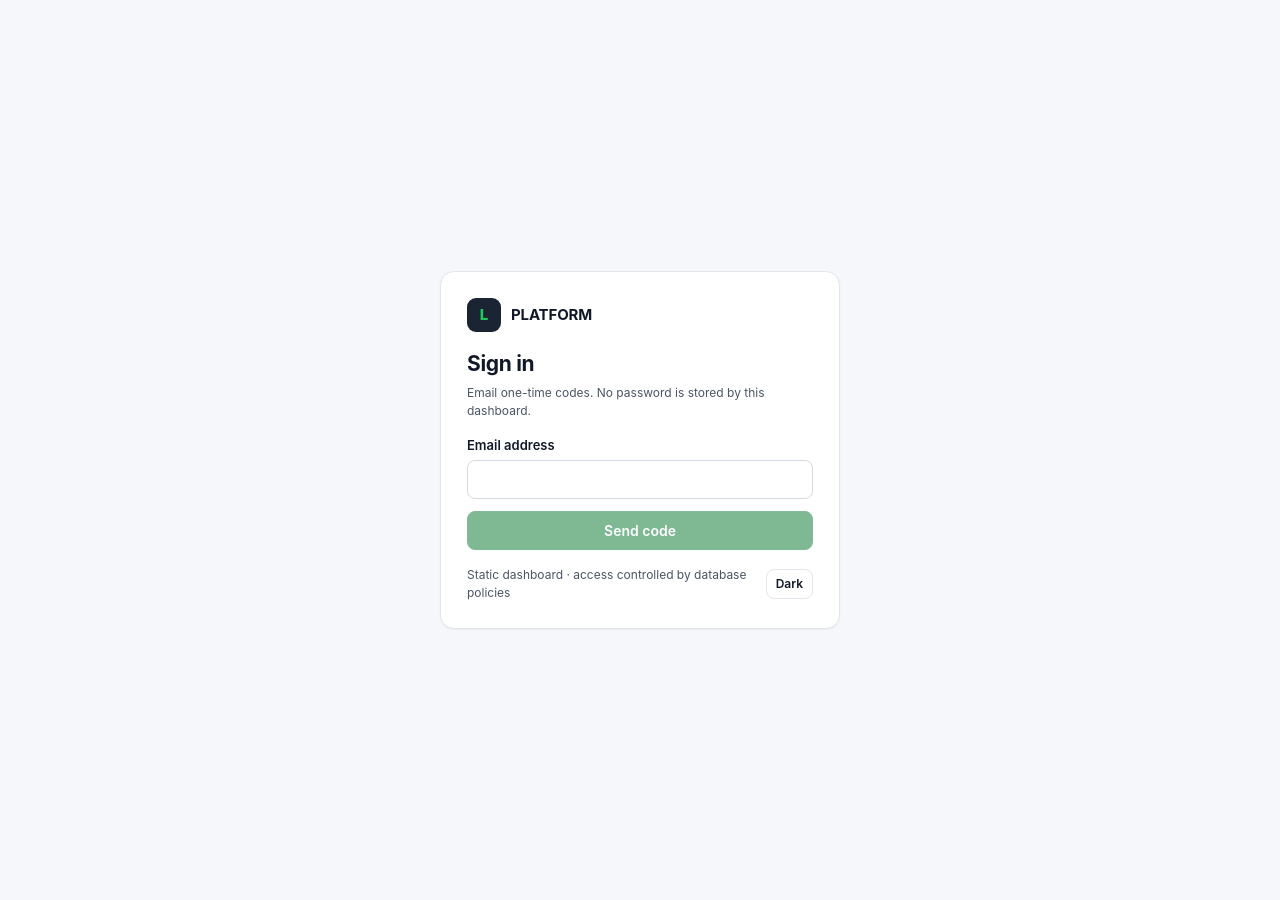
Test case: login › signs in a known email with the test code
Expected: the heading "Sign in" is shown, [467,351,534,376]
Type "student@dashboard.test" into the field labelled "Email address". click: (640, 480)
box: [467,460,813,499]
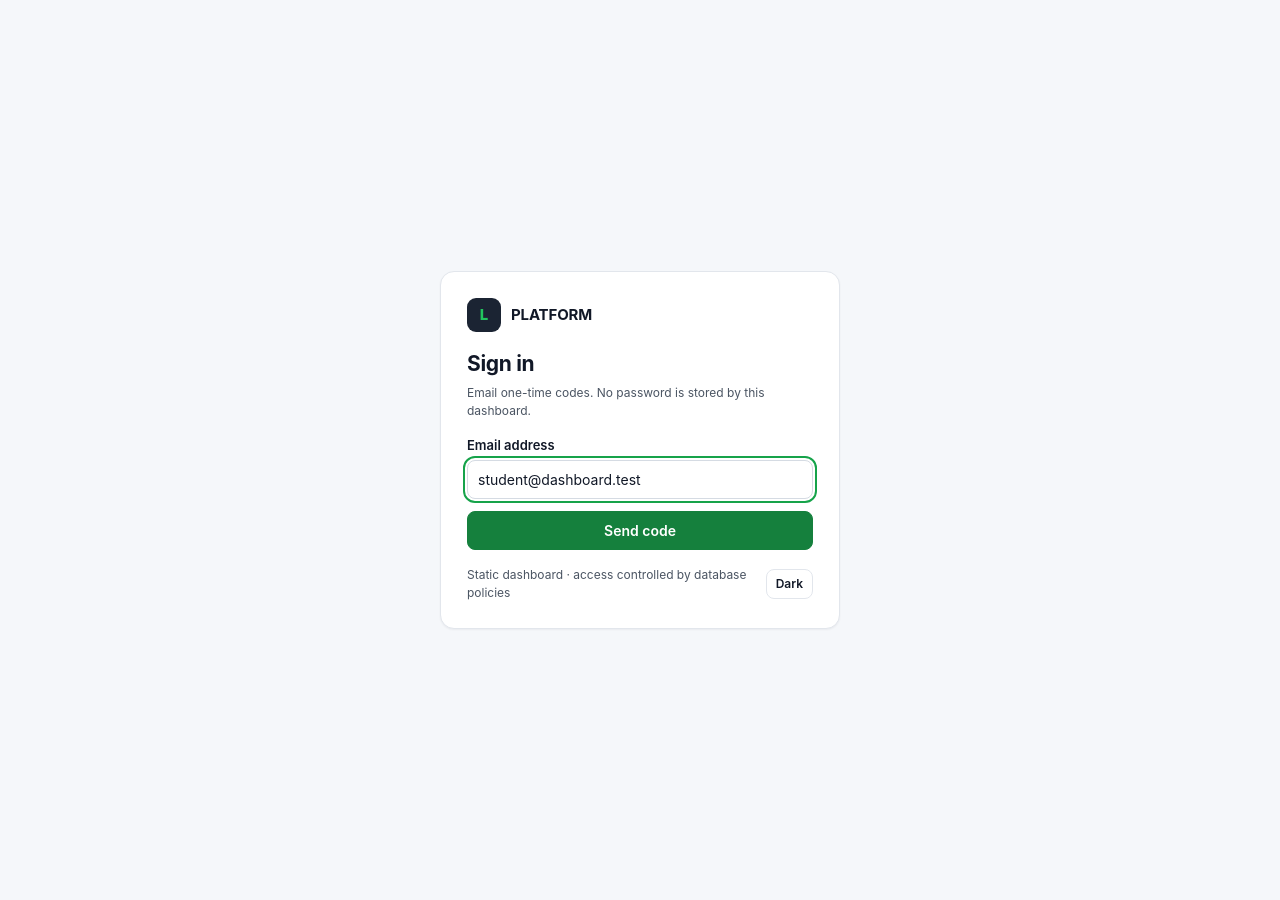
Click the button "Send code". click: (640, 530)
box: [467,511,813,550]
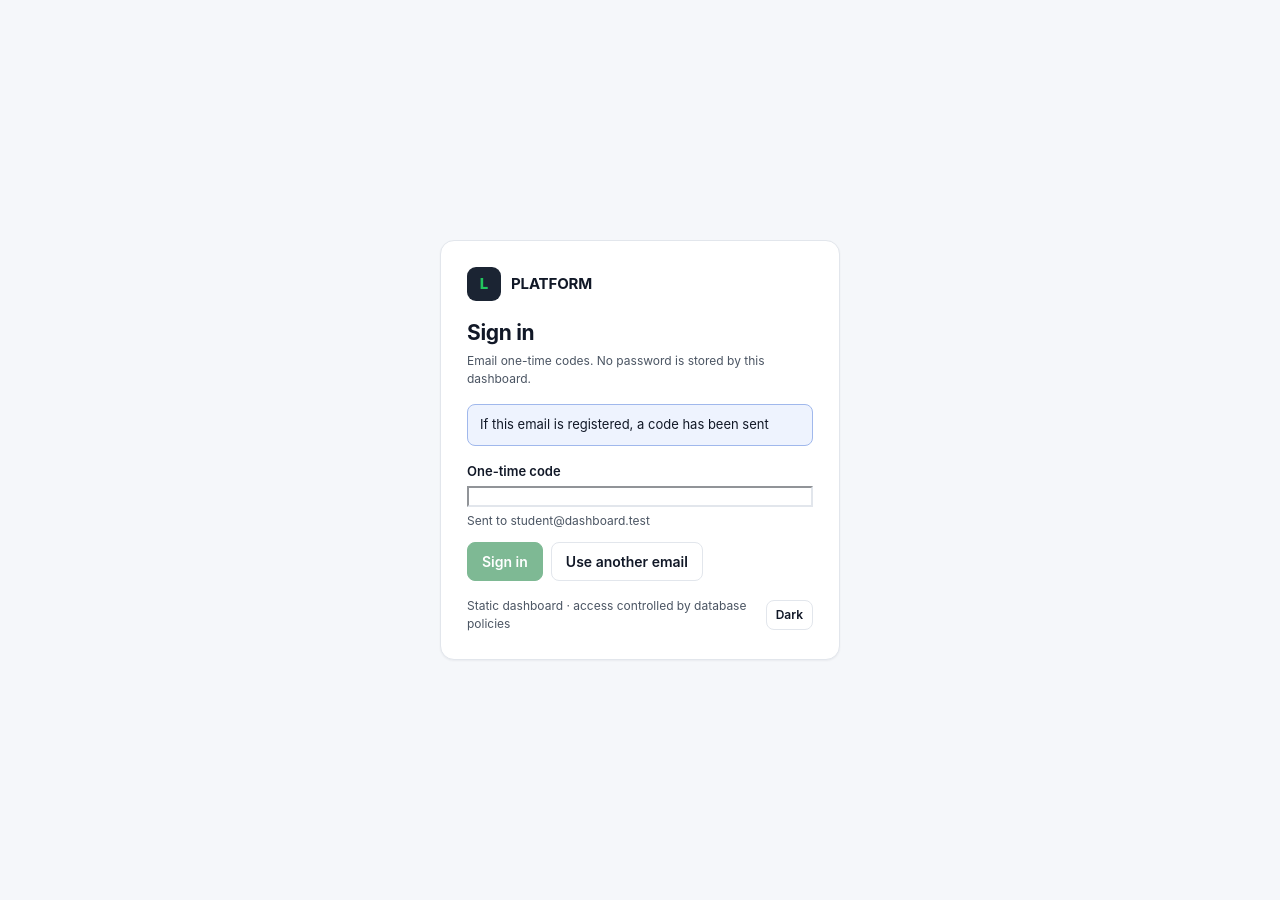
Type "123456" into the field labelled "One-time code". click: (640, 497)
box: [467,486,813,507]
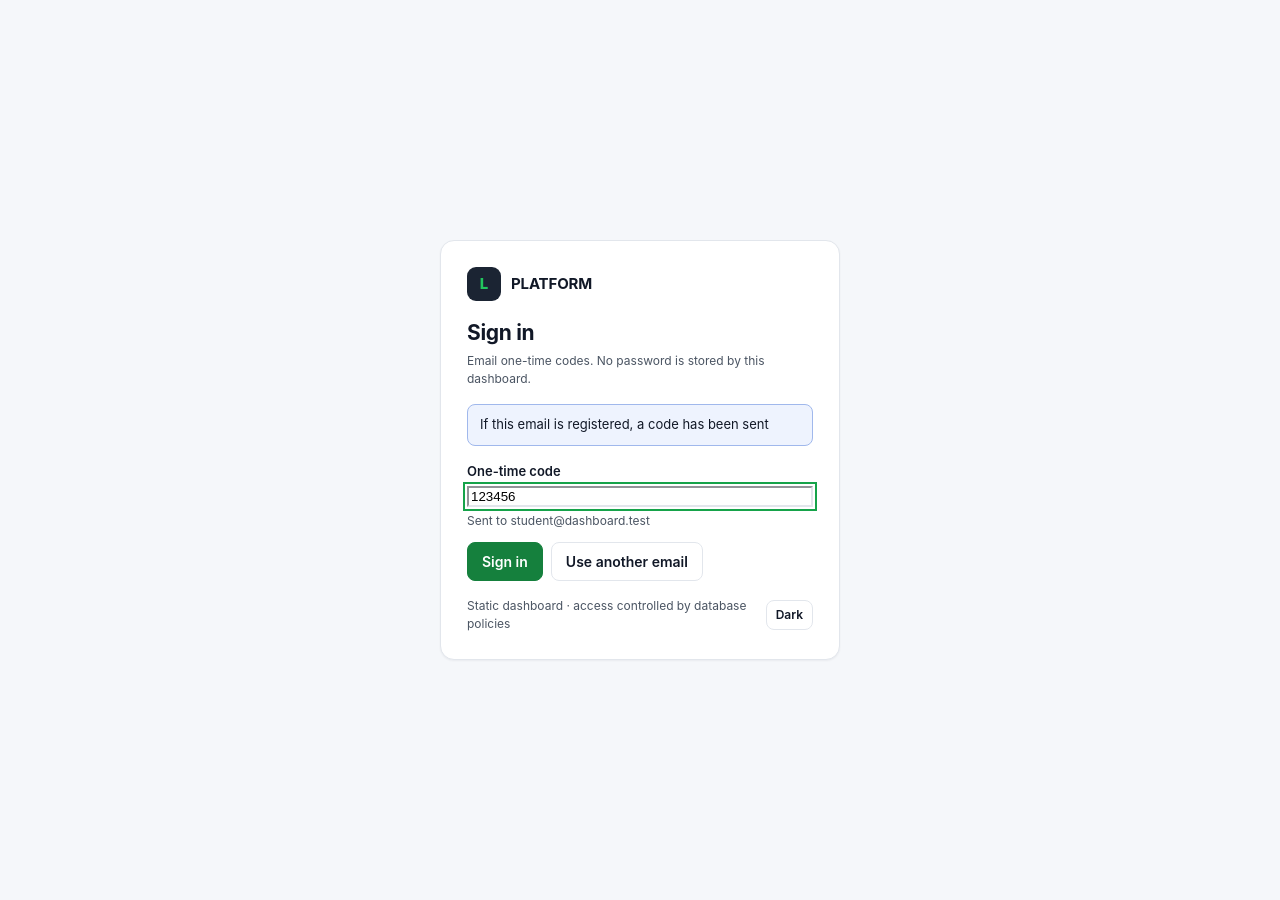
Click the button "Sign in". click: (505, 562)
box: [467,542,543,581]
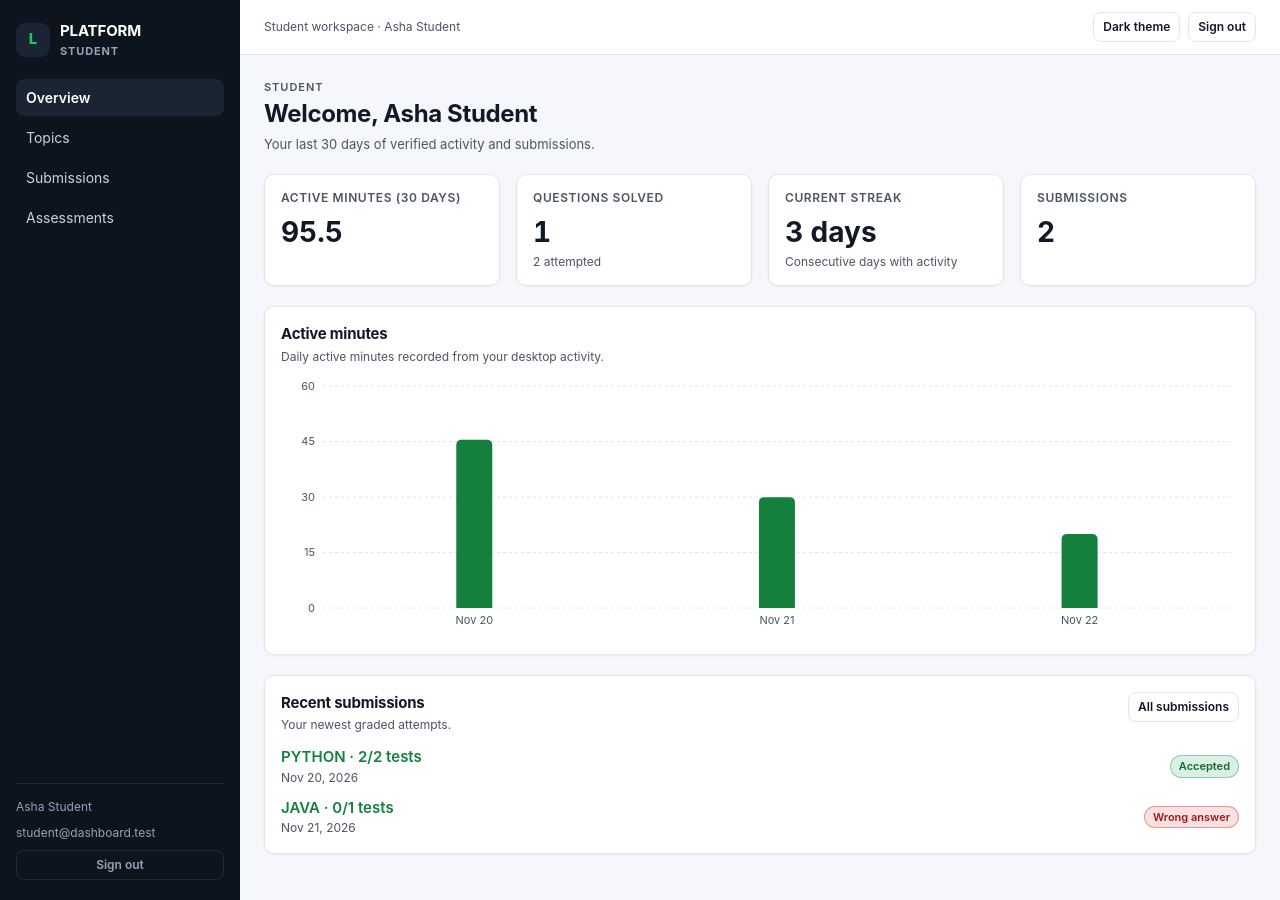
Now the heading "Welcome, Asha Student" is shown, box [264,98,537,128]
Now the text "student@dashboard.test" is shown, box [16,825,155,840]
